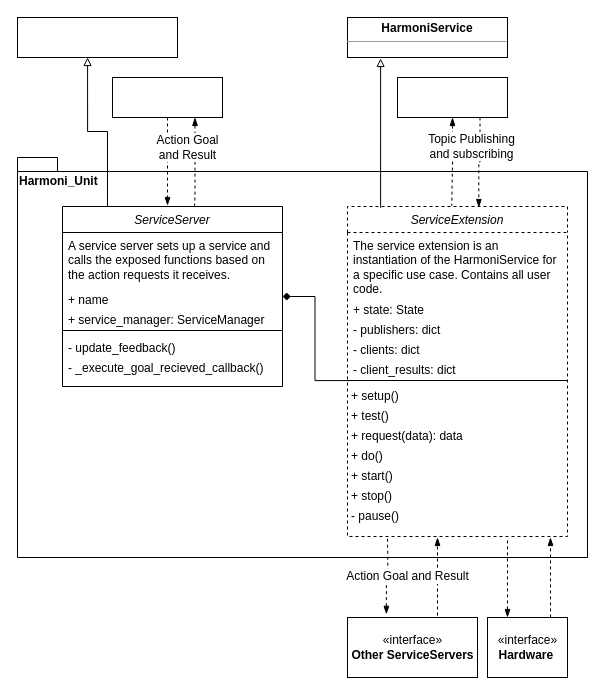
The diagram is 605 pixels wide and 695 high, and some of its shapes have lost their labels. The centre of each missing label's shape, as x and y in pixels:
"HarmoniActionServer" goes at [97,37].
"«interface» Client" goes at [167,97].
"«interface» ROS" goes at [452,97].
